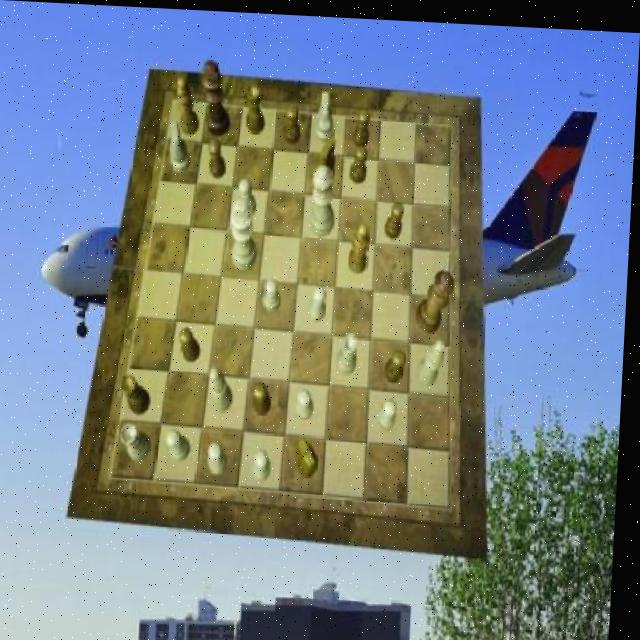bishop: (176, 74, 203, 132), (350, 219, 372, 271)
black-bishop: (201, 58, 234, 135)
black-king: (299, 434, 324, 475), (318, 133, 337, 183)
black-knight: (181, 325, 205, 360), (386, 345, 410, 380), (208, 136, 228, 177), (386, 198, 405, 236), (355, 105, 373, 145), (256, 379, 277, 413), (352, 141, 370, 179), (286, 103, 303, 142)
black-pawn: (418, 265, 458, 331)
black-queen: (123, 373, 156, 414), (246, 81, 269, 131)
black-rook: (422, 335, 448, 382), (213, 365, 239, 411)
white-bishop: (231, 196, 262, 270)
white-king: (170, 119, 193, 173), (316, 89, 337, 140)
white-knight: (171, 427, 197, 461), (240, 176, 260, 215), (212, 438, 233, 473), (311, 283, 329, 319), (256, 446, 275, 480), (382, 394, 401, 428), (267, 276, 285, 311), (299, 385, 318, 417)
white-pawn: (313, 162, 339, 234)
white-queen: (125, 421, 157, 460), (341, 328, 363, 372)
